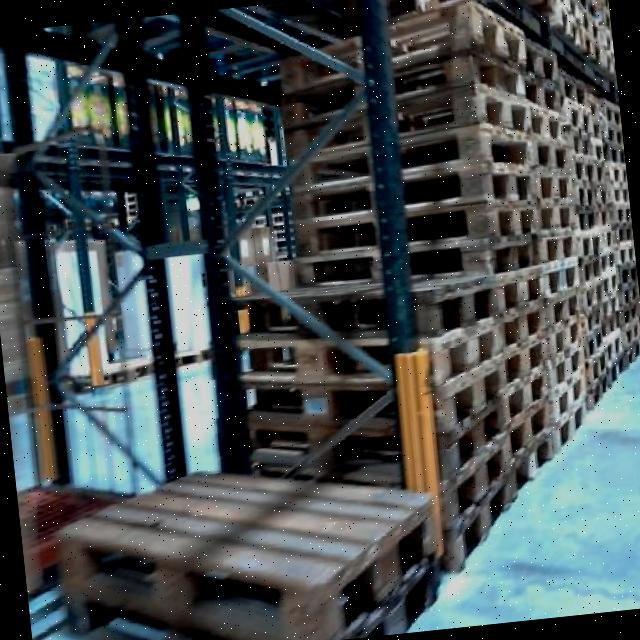pallet: (36, 440, 450, 640), (385, 0, 536, 80), (394, 146, 542, 212), (398, 111, 536, 178), (409, 262, 502, 342), (458, 193, 546, 248), (471, 222, 552, 280), (536, 220, 592, 266)
